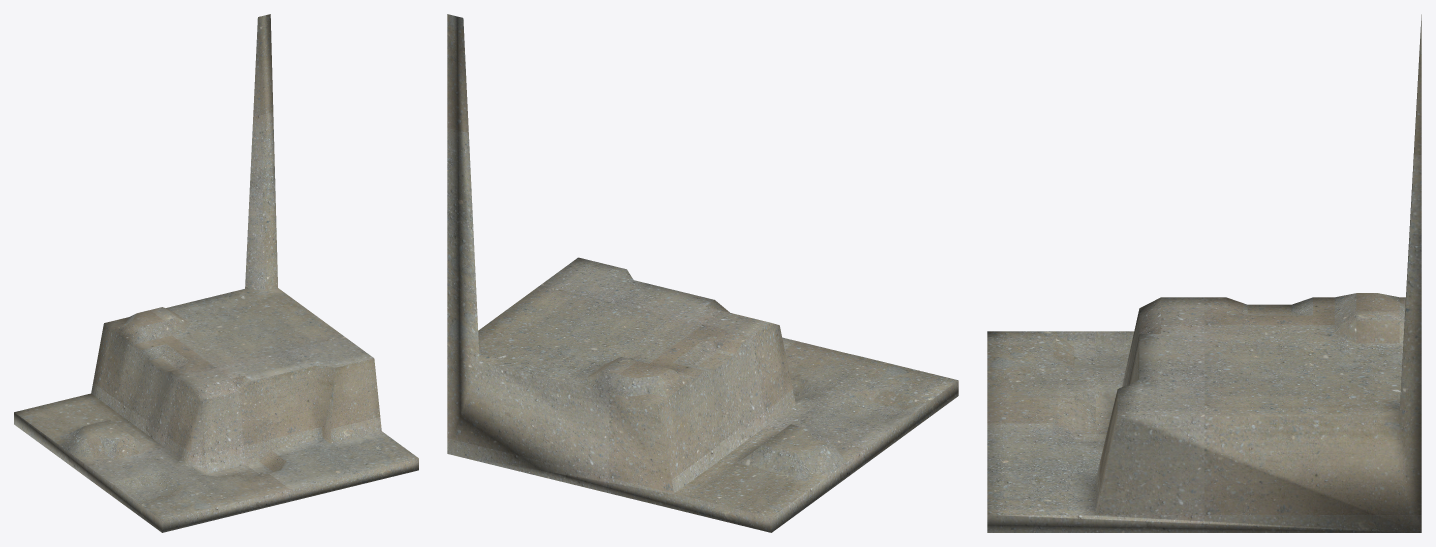
The model's file is RightTurnIn.fbx.
3 renders of one model, left to right at view 1: azimuth 30°, elevation 25°; view 2: azimuth 150°, elevation 25°; view 3: azimuth 270°, elevation 25°, orthographic. The views are drawn at different scales.
Parts seen in each view (by area): view 1: Group1; view 2: Group1; view 3: Group1.
Part boxes in pixels (bbox=[...]): Group1: bbox=[14, 14, 418, 532]; Group1: bbox=[447, 14, 958, 532]; Group1: bbox=[987, 14, 1421, 532].
Bounding box in the file's own units: 1000 × 1296 × 1000.
